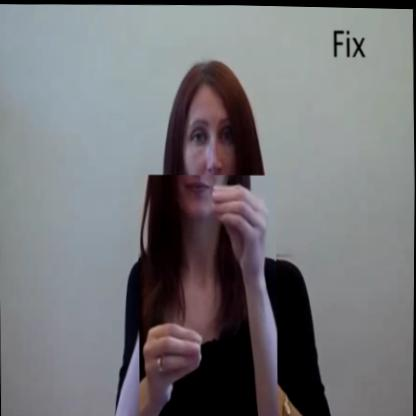Fix: (136, 171, 279, 416)
